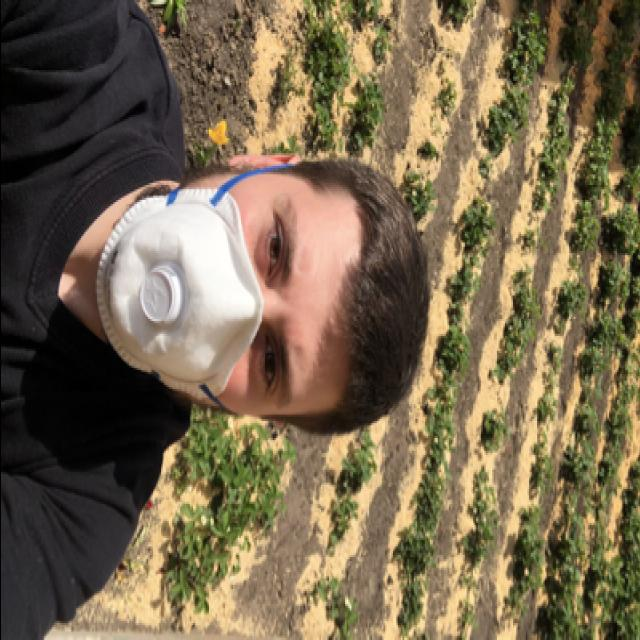mask: (98, 180, 332, 412)
